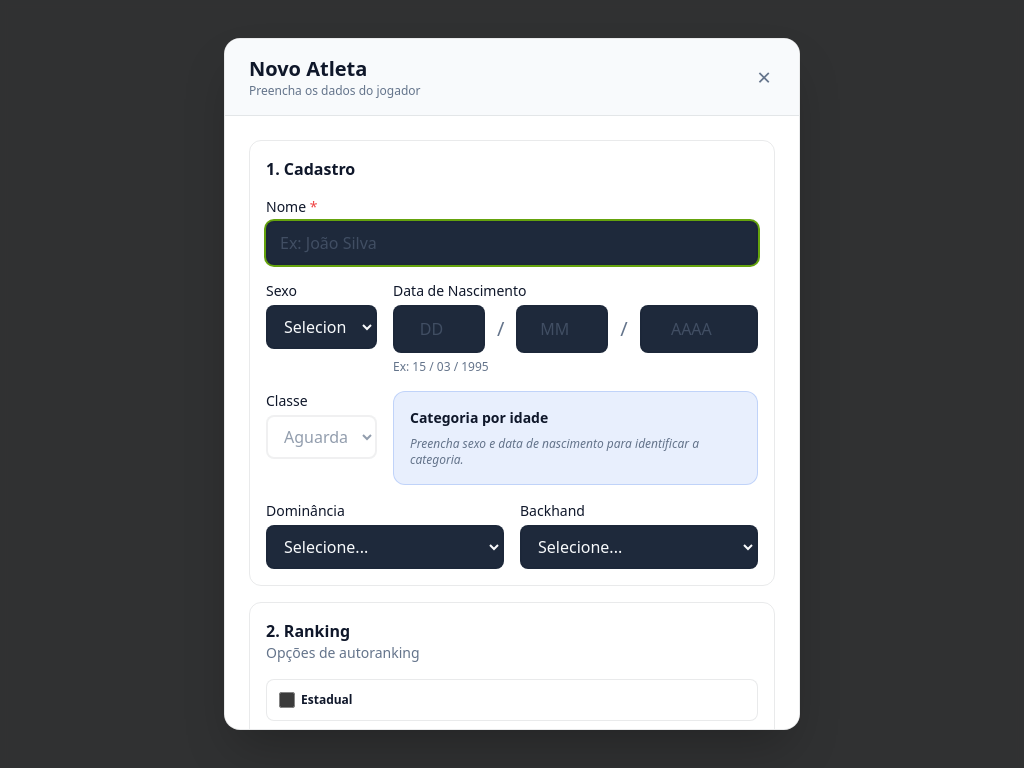
Scenario: NewAthleteModal — Characterization Tests › Form submission › shows error message on API failure
The width and height of the screenshot is (1024, 768).
Step 1. Type "João Silva" into the field with placeholder "Ex: João Silva" → {"x": 512, "y": 243}, box left=266, top=221, right=758, bottom=265
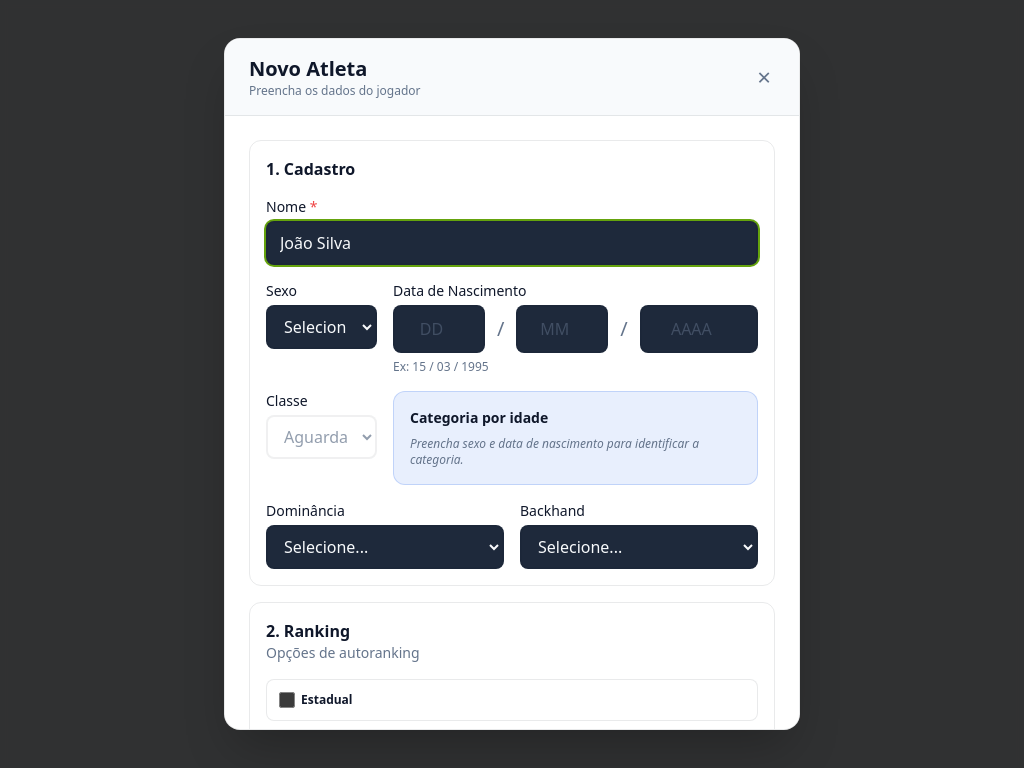
Step 2. Type "15" into the number field with placeholder "DD" → {"x": 439, "y": 329}, box left=393, top=305, right=485, bottom=353
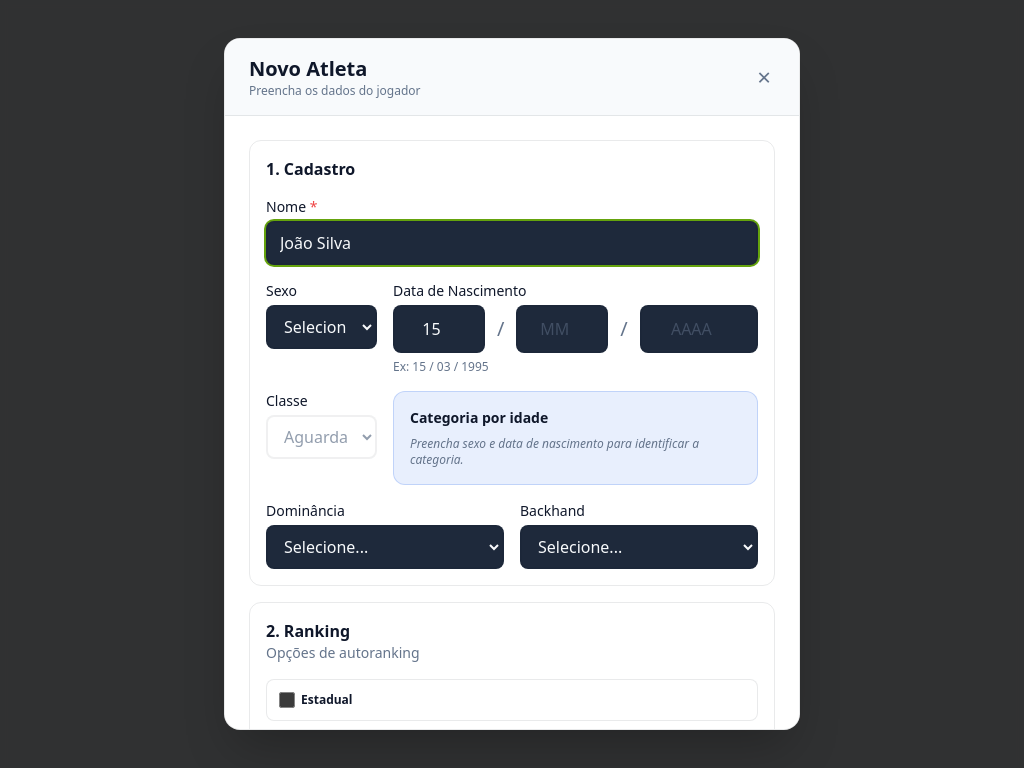
Step 3. Type "03" into the number field with placeholder "MM" → {"x": 562, "y": 329}, box left=516, top=305, right=608, bottom=353
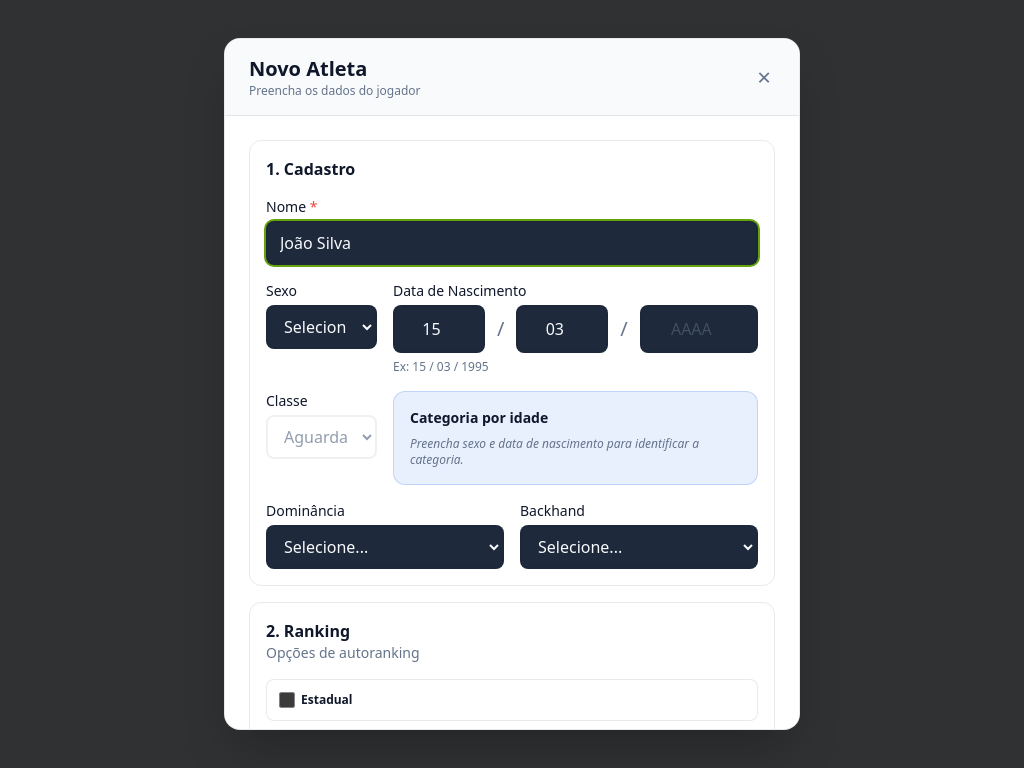
Step 4. Type "2006" into the number field with placeholder "AAAA" → {"x": 699, "y": 329}, box left=640, top=305, right=758, bottom=353
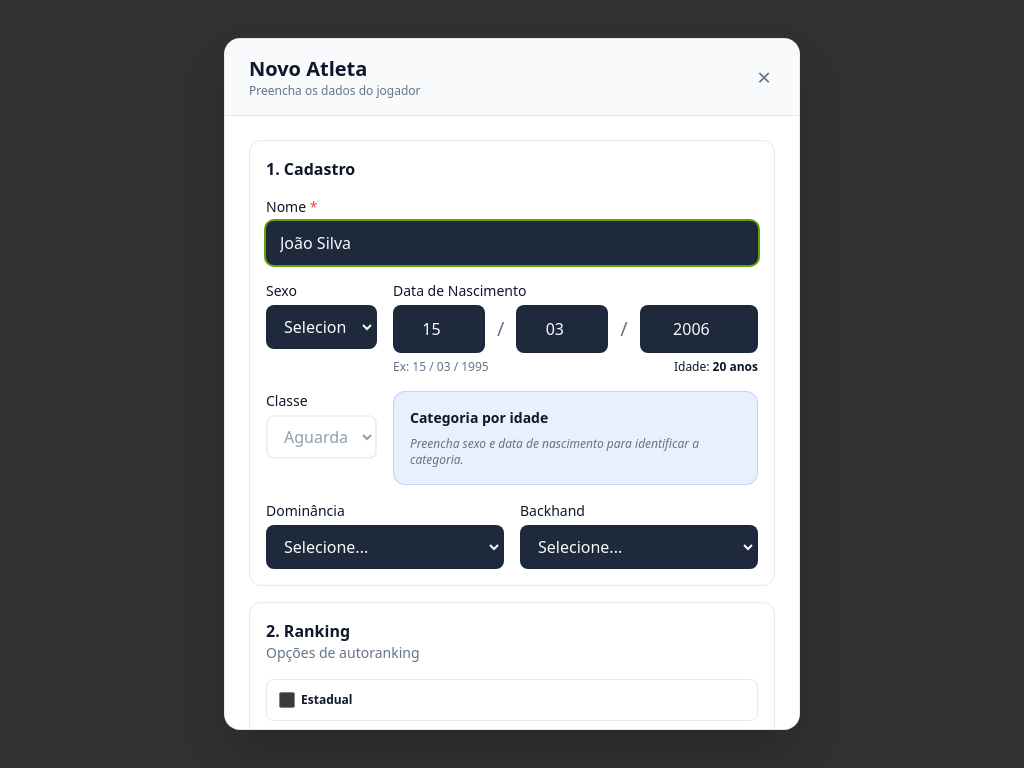
Step 5. Select "Masculino" in the dropdown labelled "Sexo" → {"x": 322, "y": 327}, box left=266, top=305, right=377, bottom=349
(page scrolled)
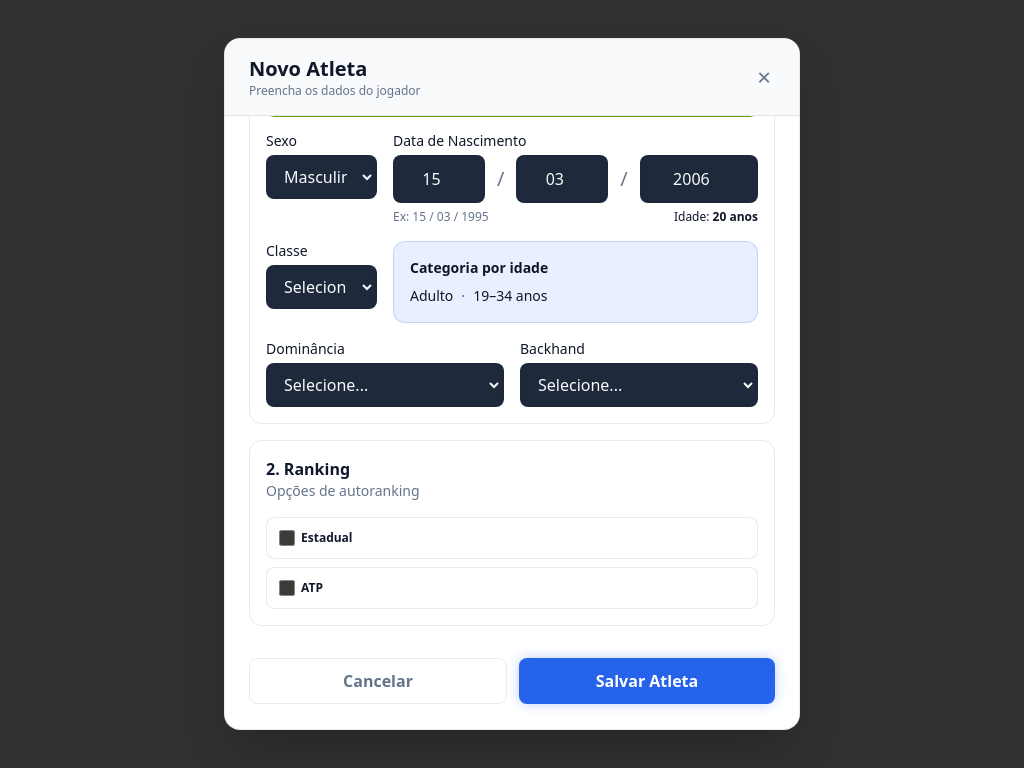
Step 6. Click the button "Salvar Atleta" → {"x": 647, "y": 681}, box left=519, top=658, right=775, bottom=704
(page scrolled)
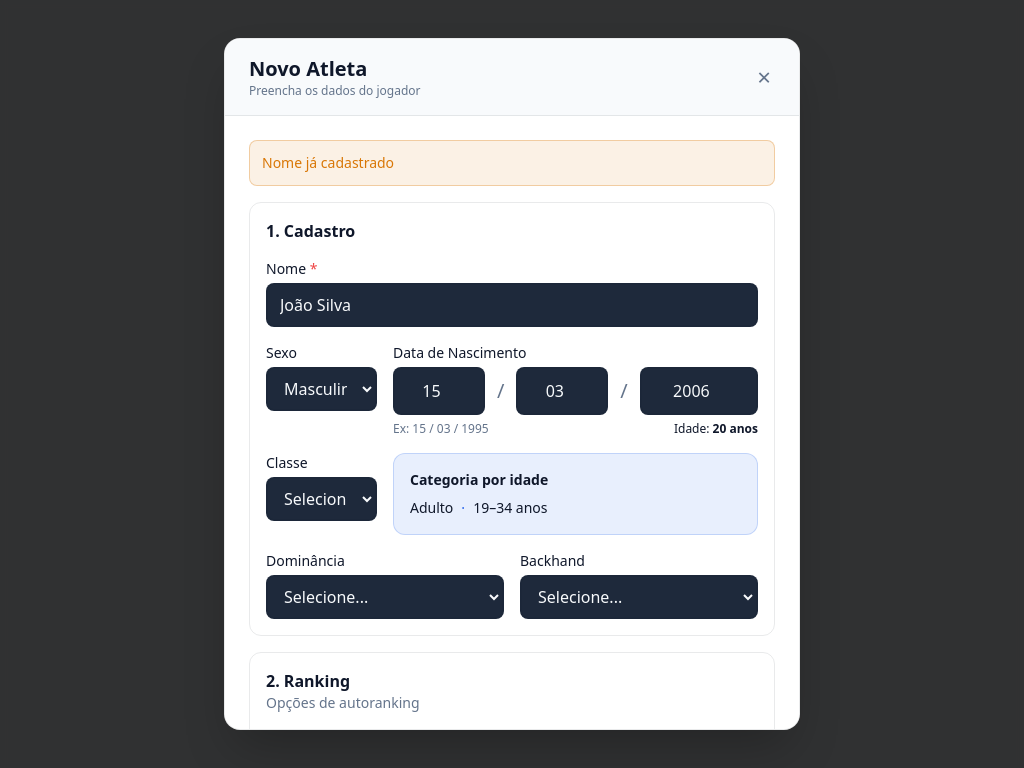
Expected: the text "Nome já cadastrado" is shown, left=249, top=140, right=775, bottom=186
